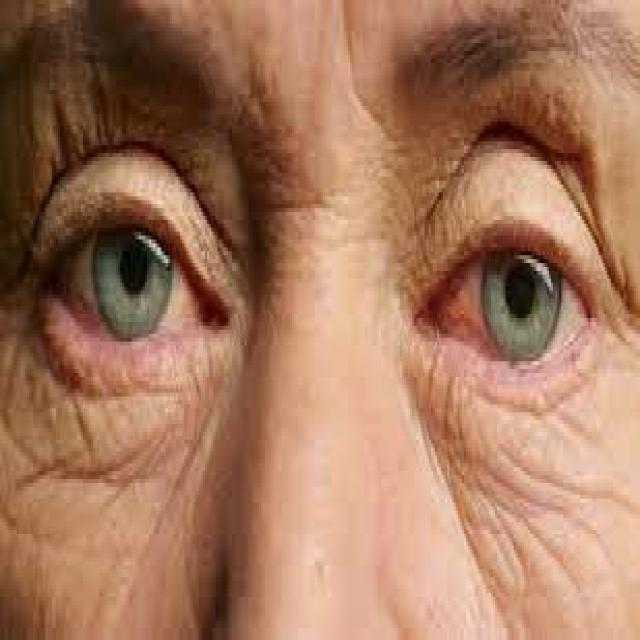Wrinkles: (0, 333, 223, 632), (410, 368, 638, 640)
